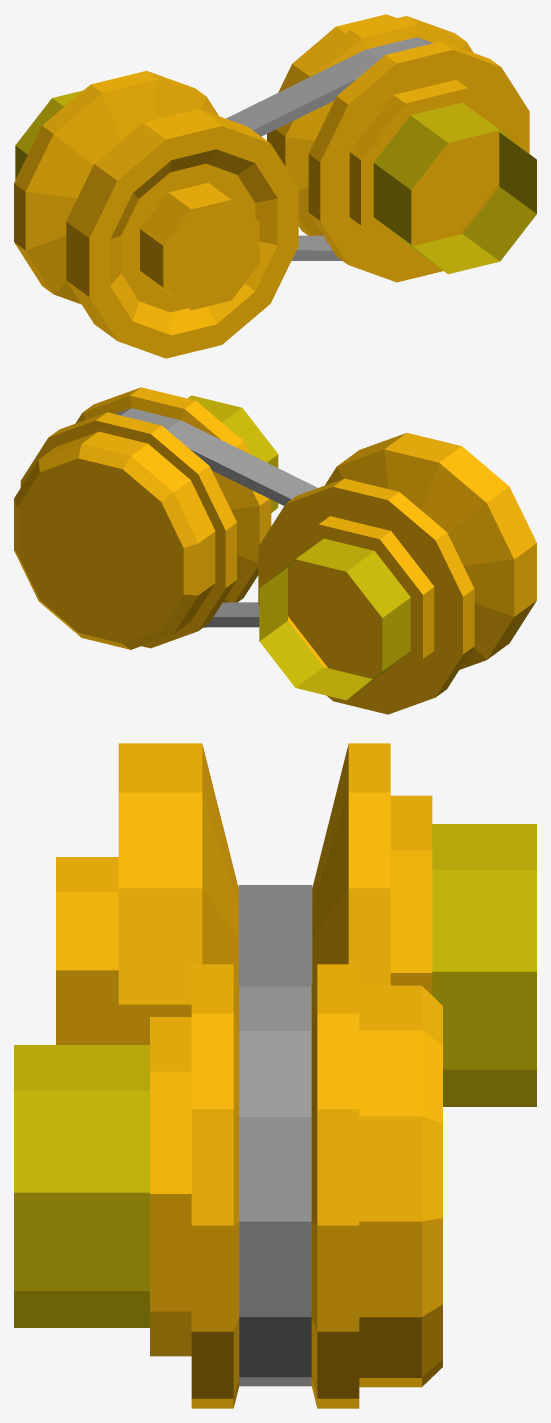
File: mpe_cvt.dae
The picture shows the model from 3 angles, top to bottom: view 1: azimuth 30°, elevation 25°; view 2: azimuth 150°, elevation 25°; view 3: azimuth 270°, elevation 25°; orthographic projection. The views are drawn at different scales.
Parts seen in each view (by area): view 1: cvt; view 2: cvt; view 3: cvt.
Boxes of the visible parts, x1=… form: cvt: x1=14, y1=14, x2=536, y2=358; cvt: x1=14, y1=387, x2=536, y2=714; cvt: x1=14, y1=743, x2=536, y2=1408.
Size of the model in its own units: 0.4583 by 0.25 by 0.2083.
